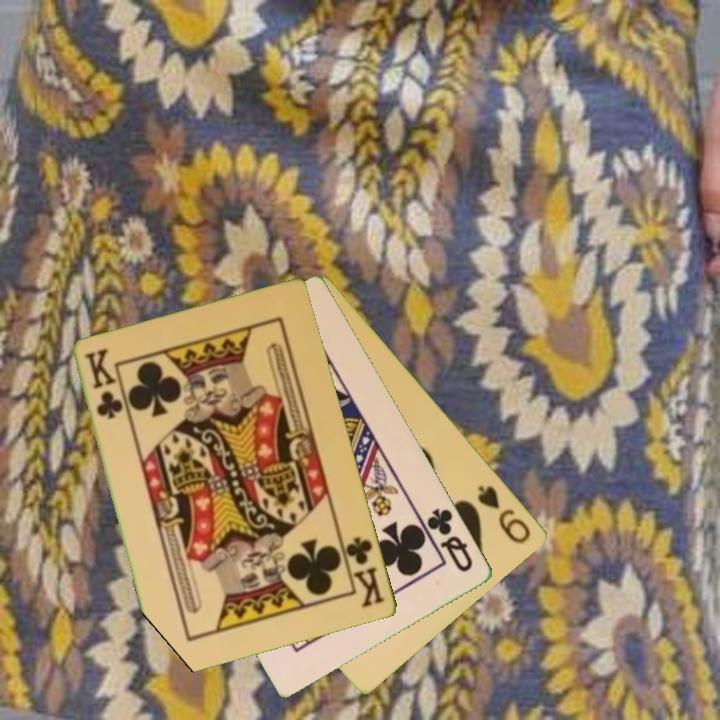9s: (474, 481, 535, 547)
Kc: (338, 532, 389, 612), (81, 345, 125, 423)
Qc: (424, 504, 477, 576)
